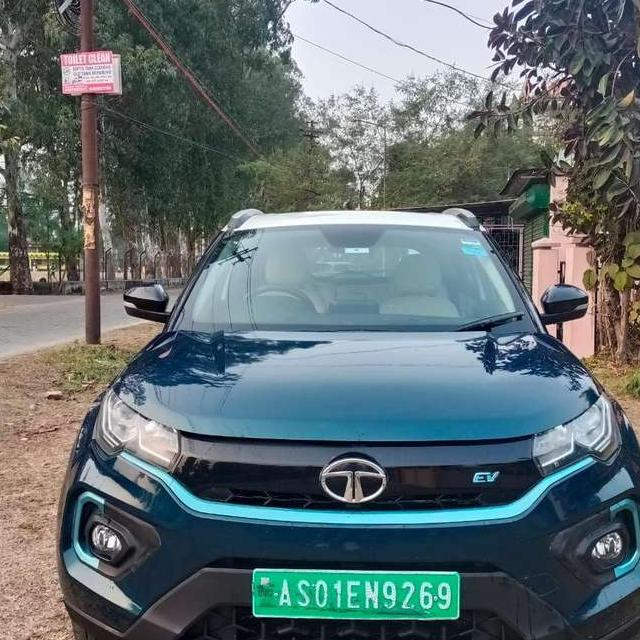Indian_Number_Plate: (255, 571, 461, 617)
